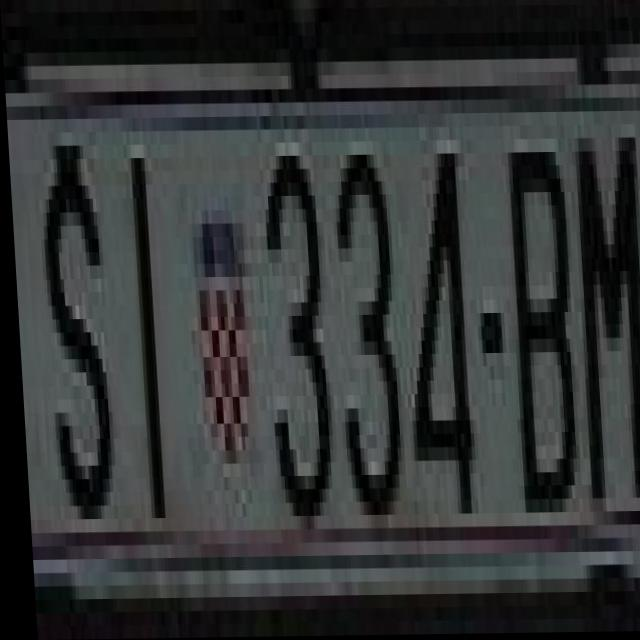3: (250, 156, 338, 531), (324, 155, 402, 530)
4: (401, 128, 479, 515)
B: (494, 127, 573, 501)
M: (565, 126, 640, 487)
S: (30, 132, 118, 507)
